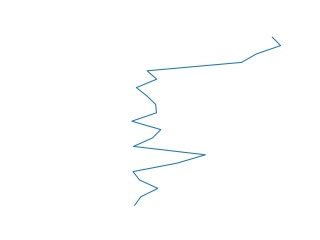crevasseRiverChannelBar: (124, 33, 284, 208)
